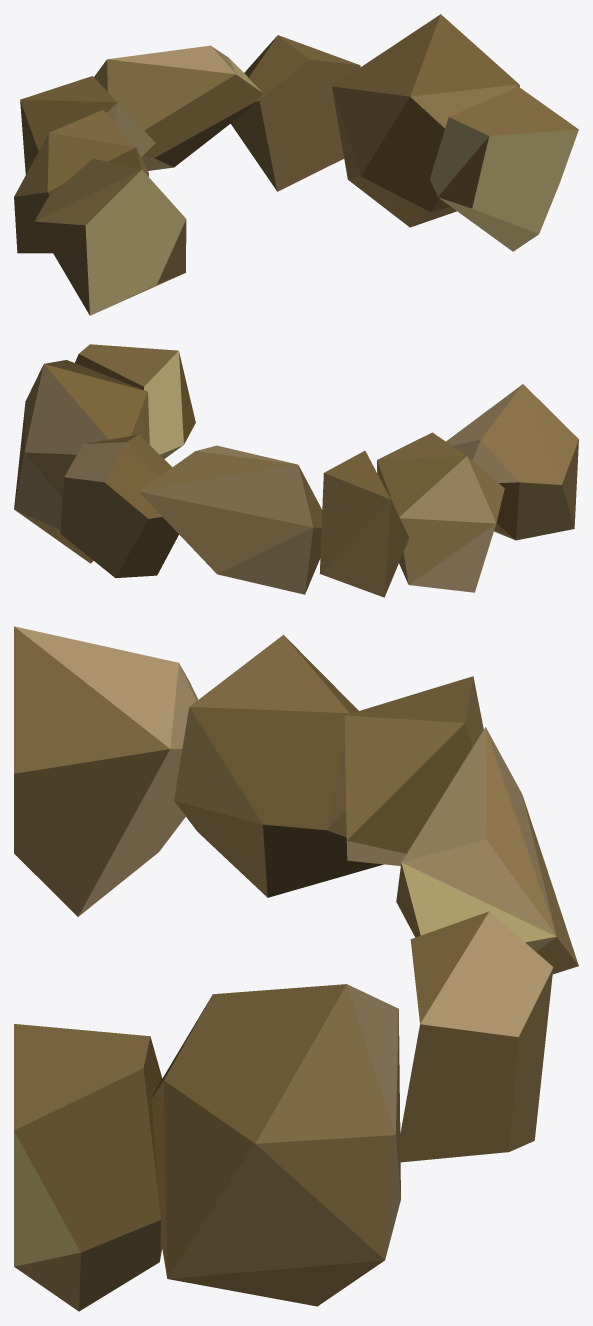
File: desert_gate.fbx
3 renders of one model, top to bottom at view 1: azimuth 30°, elevation 25°; view 2: azimuth 150°, elevation 25°; view 3: azimuth 270°, elevation 25°, orthographic. The views are drawn at different scales.
Parts seen in each view (by area): view 1: desert_gate; view 2: desert_gate; view 3: desert_gate.
Boxes of the visible parts, x1,y1,x2,y2 form: desert_gate: (14, 14, 578, 315); desert_gate: (14, 344, 578, 597); desert_gate: (14, 626, 578, 1311).
Size of the model in its own units: 445 by 172 by 237.
